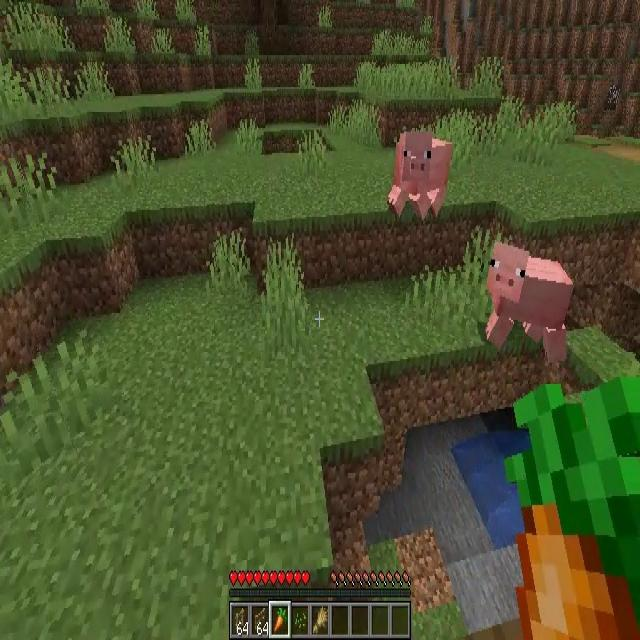pig: (488, 241, 572, 362), (388, 132, 454, 216)
